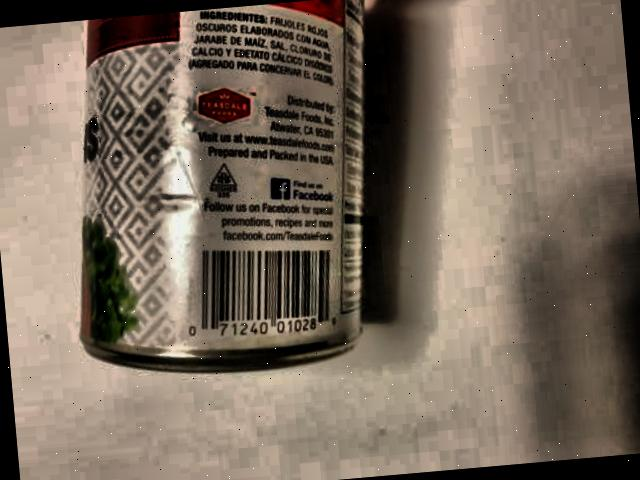Almennt: (15, 0, 419, 410)
